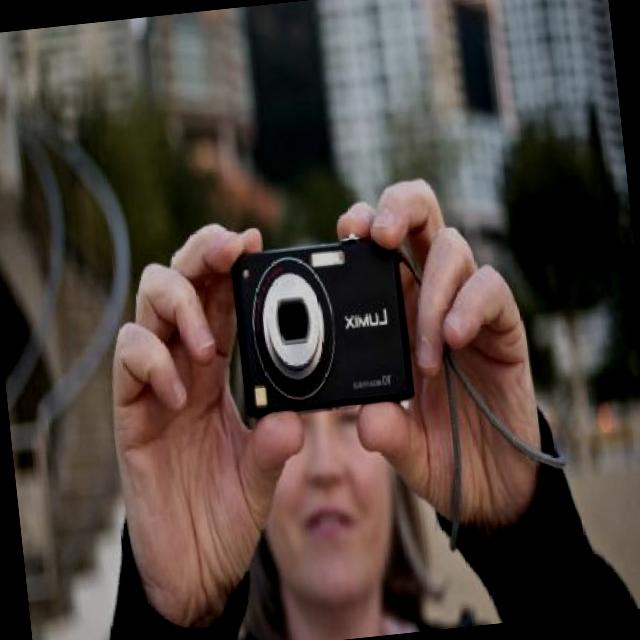Person: (156, 125, 625, 628)
